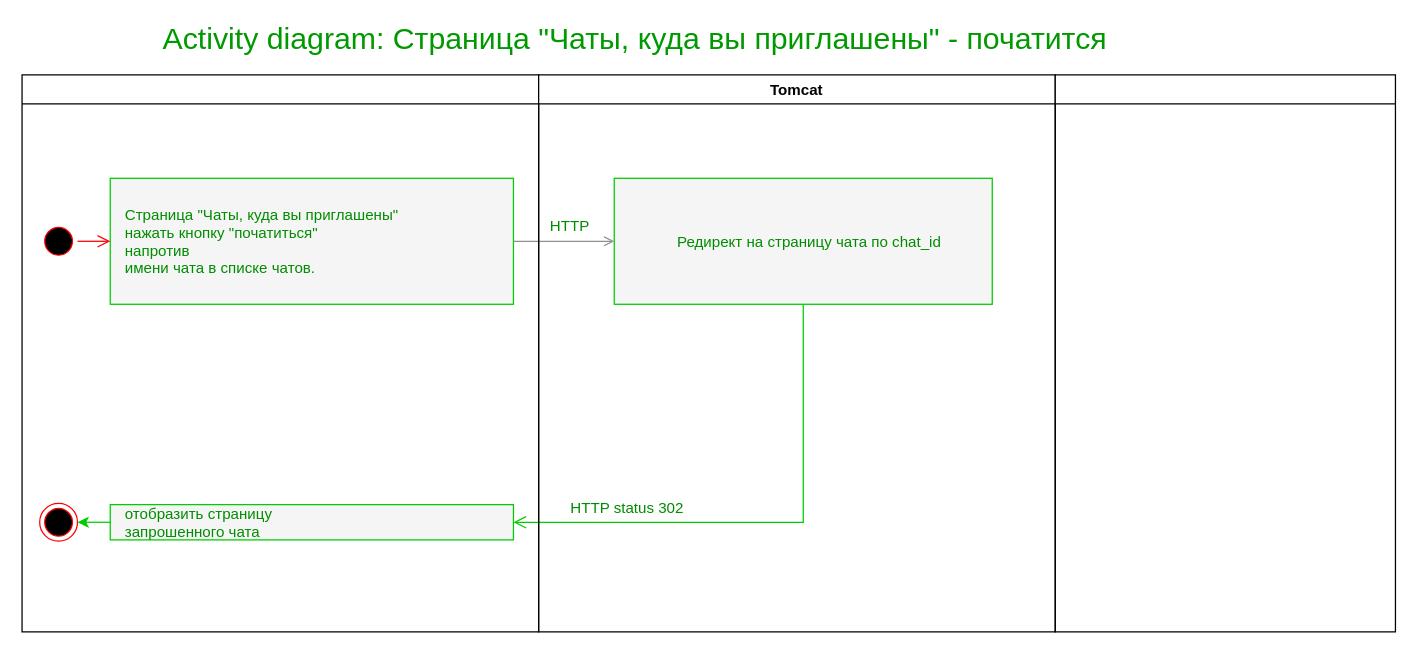
Image size: 1418x654. Some labels were removed from this diagram. The centre of each missing label's shape, as x and y in pixels:
PostgreSQL: point (1224, 353)
Браузер: point (280, 353)
